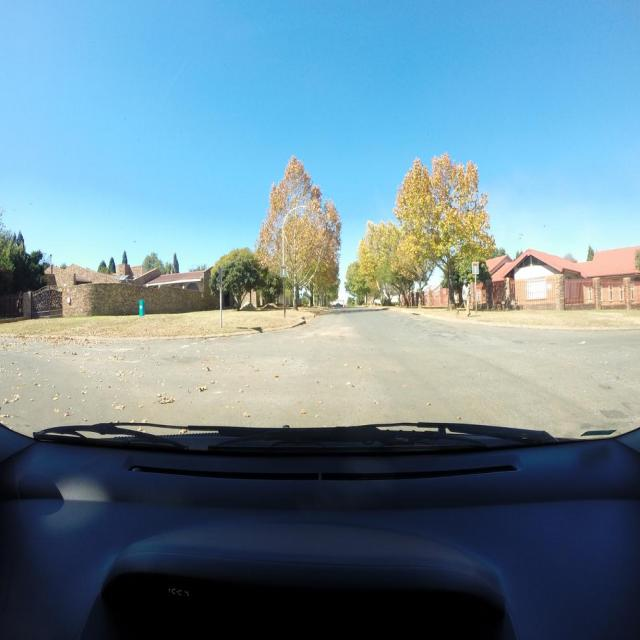Pothole: (391, 337, 398, 340), (313, 334, 320, 336), (395, 319, 401, 321), (403, 322, 408, 324), (340, 336, 345, 338), (418, 330, 423, 331)
